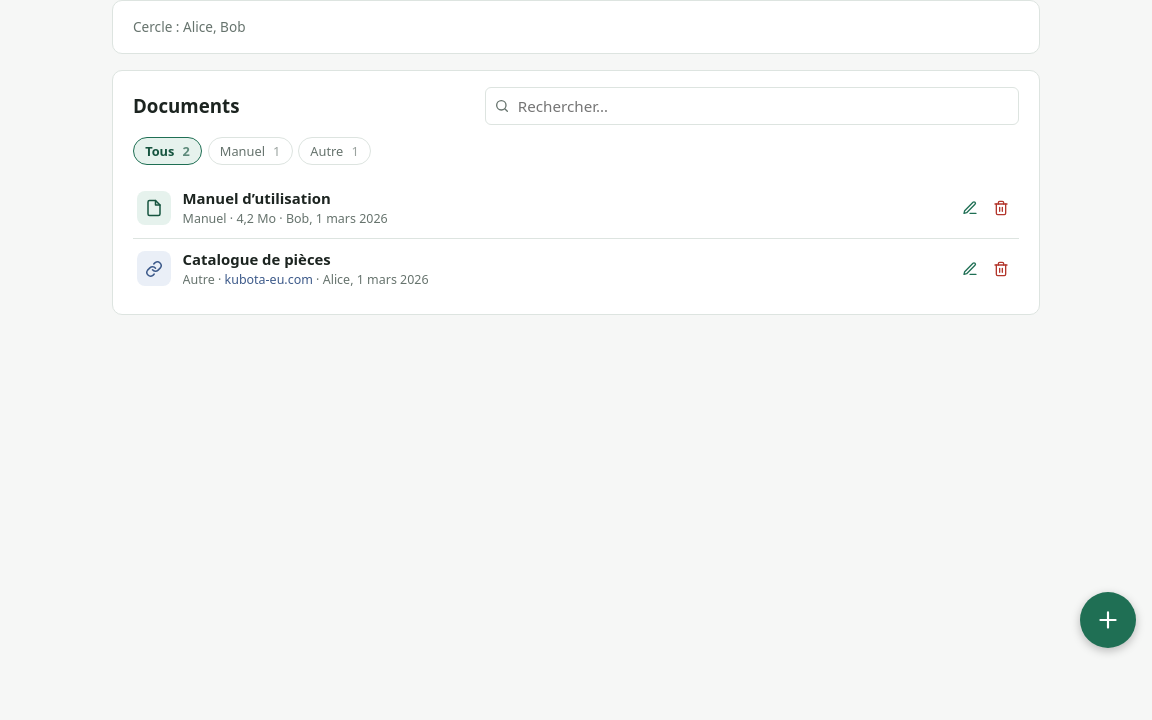
Test: ajout › ajoute un lien de bout en bout depuis le bouton flottant, sans fermer la modale
expect the text "Manuel d’utilisation" is shown: met, box [183,188,331,208]
# Le seul déclencheur de la page mène aussi au lien : bascule de nature, puis envoi.
Step 1. Click the button named "Ajouter un document" → (1108, 620), box [1080,592,1136,648]
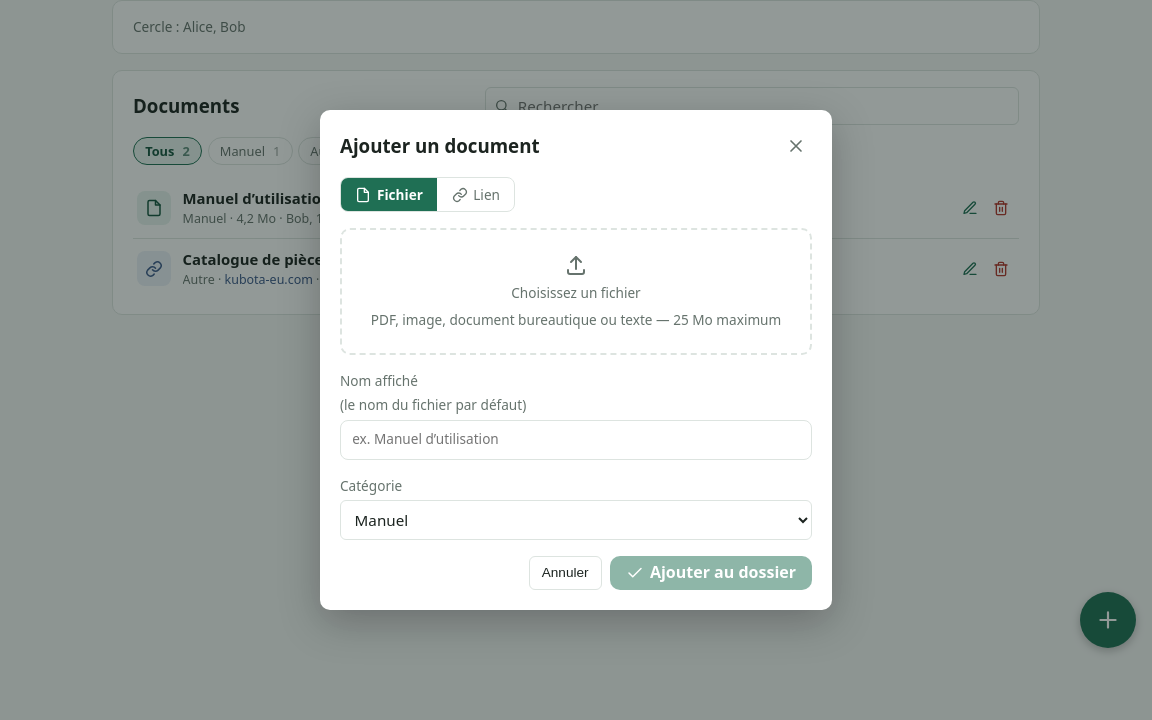
Step 2. Click the button "Lien" → (476, 195), box [437,178,514,212]
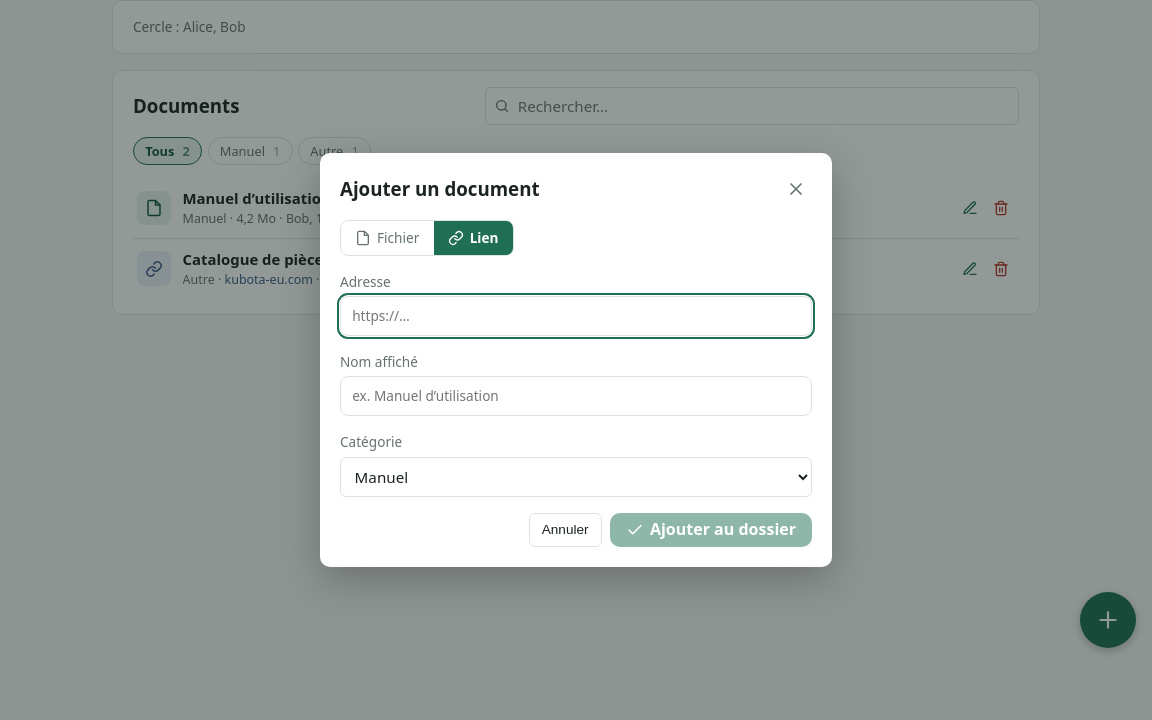
Step 3. Type "https://exemple.fr/tuto" into the field with placeholder "https://…" → (576, 316), box [340,296,812,336]
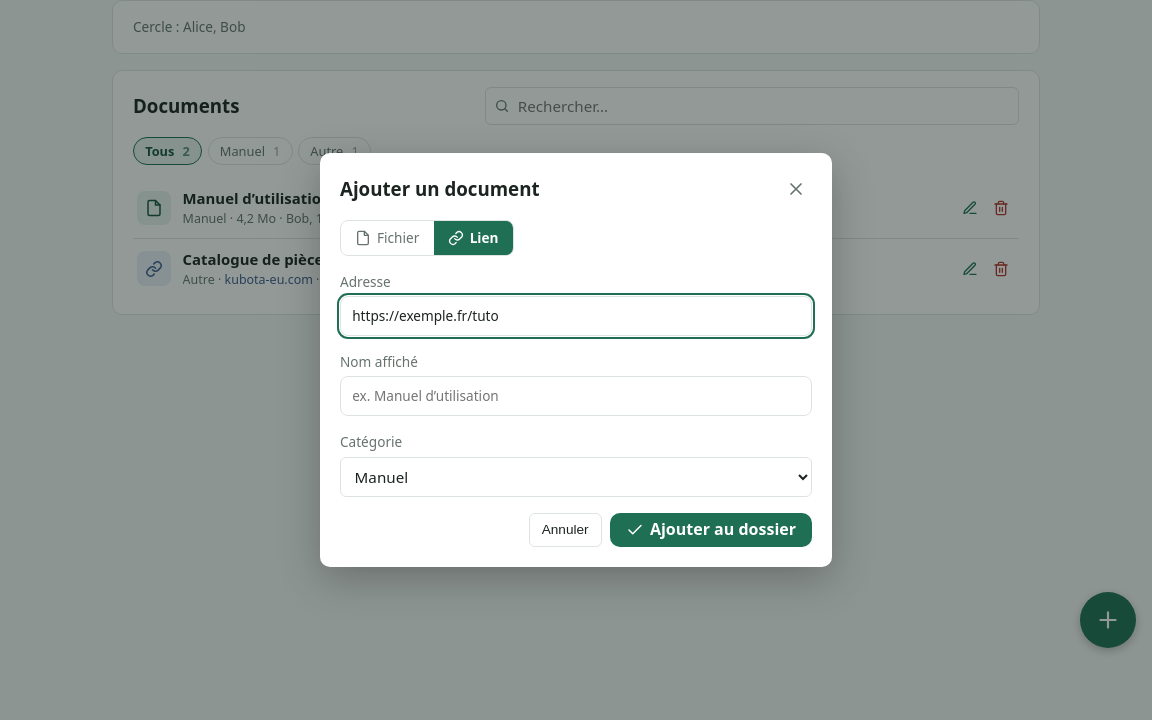
Step 4. Click the button "Ajouter au dossier" → (711, 530), box [610,513,812,547]
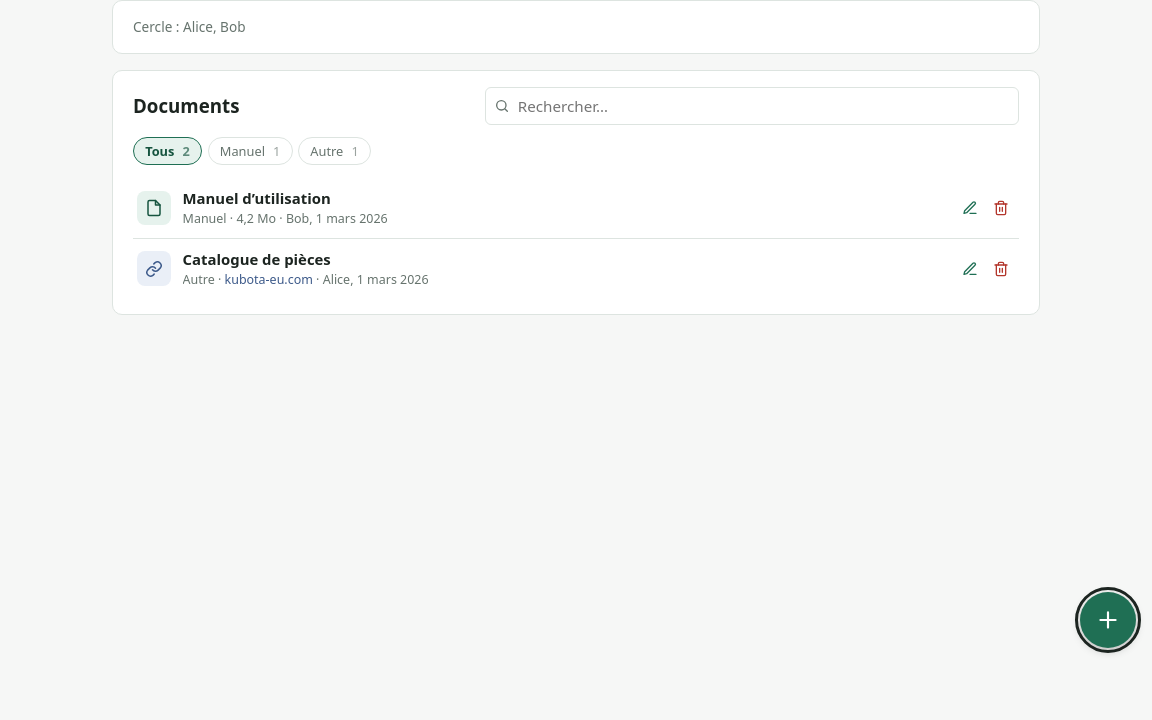
expect the dialog is gone: met
